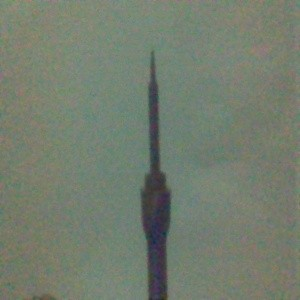solder: (140, 49, 172, 300)
